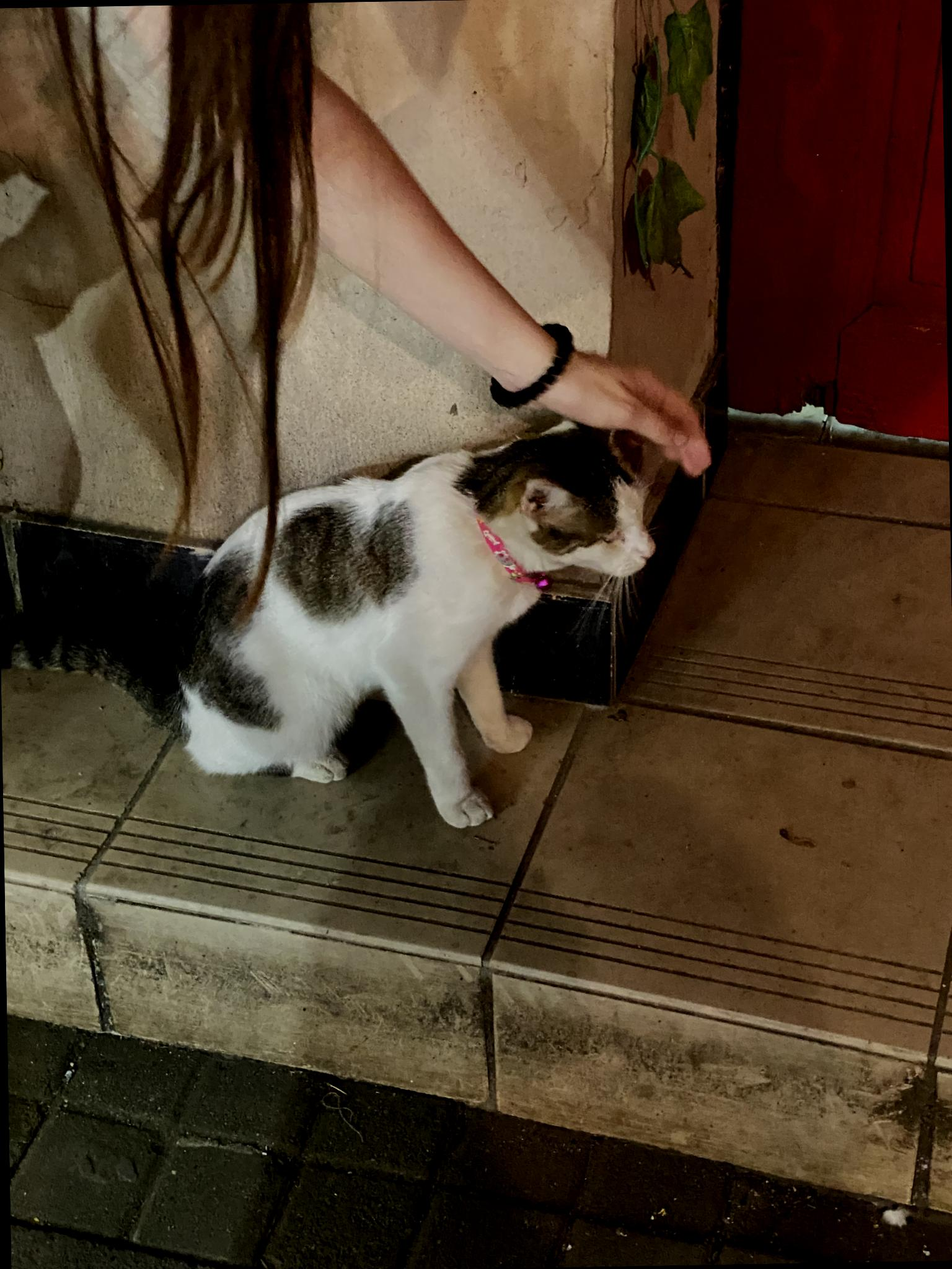macka: (0, 425, 663, 841)
